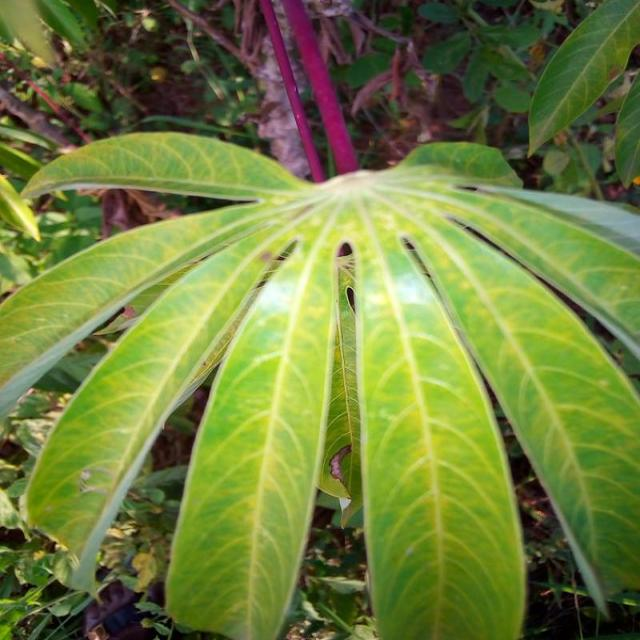cassava leaf: (1, 1, 638, 638), (164, 232, 338, 638)
